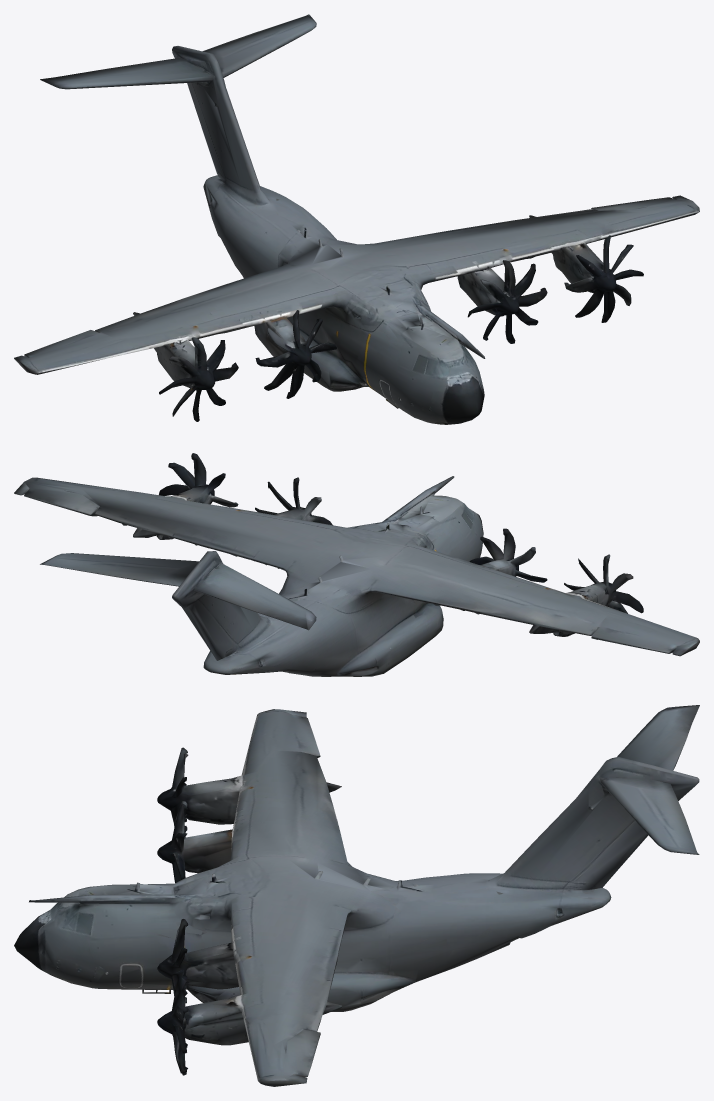
3 views of the same model, one above another, from view 1: azimuth 30°, elevation 25°; view 2: azimuth 150°, elevation 25°; view 3: azimuth 270°, elevation 25° (orthographic). The views are drawn at different scales.
Visible parts, largest first — view 1: node_0; view 2: node_0; view 3: node_0.
Part boxes in pixels (x1=…): node_0: x1=14, y1=14, x2=699, y2=424; node_0: x1=14, y1=453, x2=699, y2=676; node_0: x1=14, y1=705, x2=699, y2=1086.
Bounding box in the file's own units: 1.17 × 0.3435 × 0.9149.
1 material, 1 textured.
